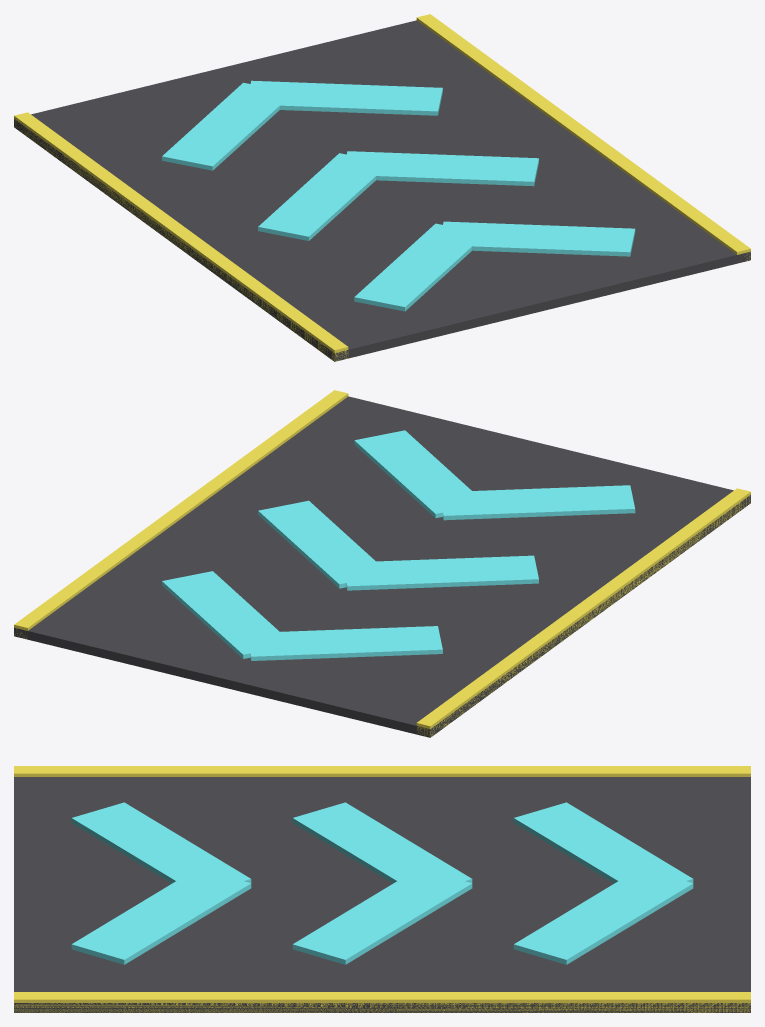
File: rc_boost_pad.glb
3 renders of one model, top to bottom at view 1: azimuth 30°, elevation 25°; view 2: azimuth 150°, elevation 25°; view 3: azimuth 270°, elevation 25°, orthographic. The views are drawn at different scales.
Parts seen in each view (by area): view 1: rc_boost_pad; view 2: rc_boost_pad; view 3: rc_boost_pad.
Part boxes in pixels (x1=…): rc_boost_pad: x1=14, y1=14, x2=750, y2=361; rc_boost_pad: x1=14, y1=390, x2=750, y2=737; rc_boost_pad: x1=14, y1=766, x2=750, y2=1012.
Bounding box in the file's own units: 3 × 0.09 × 4.
